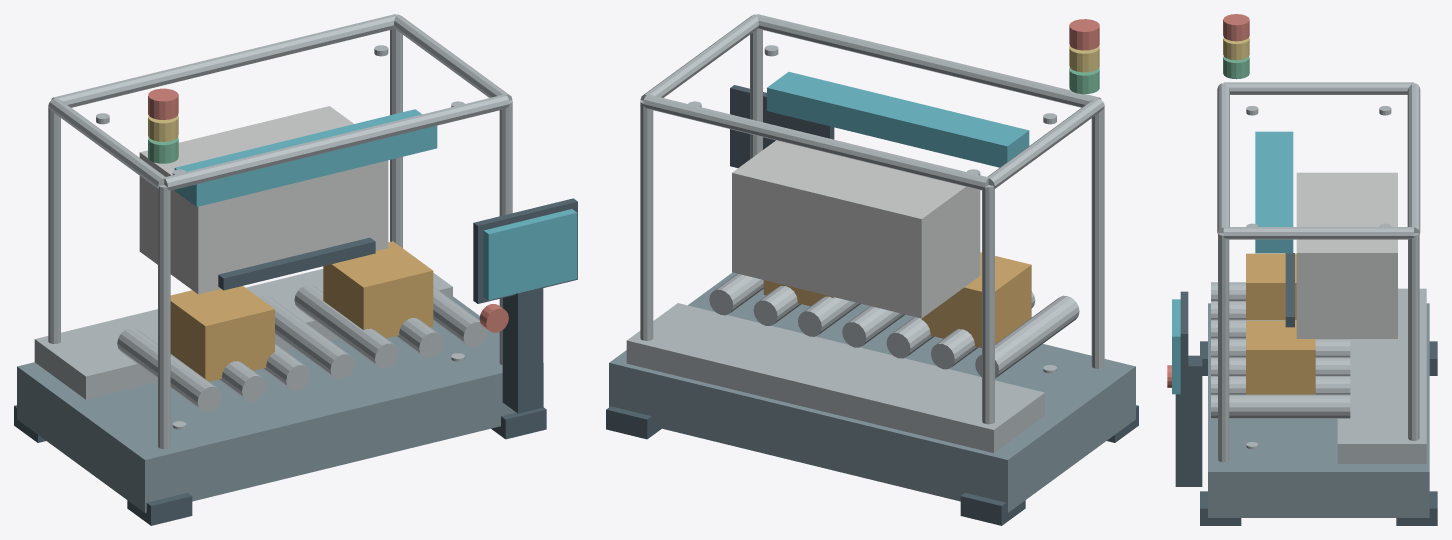
File: dispatch.glb
3 views of the same model, side by side, from view 1: azimuth 30°, elevation 25°; view 2: azimuth 150°, elevation 25°; view 3: azimuth 270°, elevation 25° (orthographic). The views are drawn at different scales.
Visible parts, largest first — view 1: fabricated_base, printer, control_plinth, carton_-1.3, outfeed_scanner, carton_1.2, operator_hmi_screen, toprail_1.5, toprail_-1.5, operator_hmi_pedestal, frame_-2.7_1.5, frame_-2.7_-1.5 (+19 smaller); view 2: fabricated_base, printer, control_plinth, outfeed_scanner, toprail_-1.5, toprail_1.5, carton_-1.3, frame_-2.7_1.5, frame_2.7_-1.5, frame_-2.7_-1.5, dispatch_roller_0, operator_hmi_bezel (+14 smaller); view 3: fabricated_base, printer, control_plinth, carton_1.2, outfeed_scanner, dispatch_roller_6, operator_hmi_pedestal, carton_-1.3, frame_2.7_1.5, crossrail_2.7, frame_2.7_-1.5, crossrail_-2.7 (+16 smaller).
Boxes of the visible parts, x1=… form: fabricated_base: x1=17, y1=296, x2=543, y2=512; printer: x1=139, y1=106, x2=388, y2=294; control_plinth: x1=34, y1=269, x2=452, y2=399; carton_-1.3: x1=170, y1=286, x2=274, y2=381; outfeed_scanner: x1=174, y1=109, x2=437, y2=206; carton_1.2: x1=323, y1=241, x2=433, y2=338; operator_hmi_screen: x1=483, y1=209, x2=577, y2=300; toprail_1.5: x1=163, y1=94, x2=509, y2=190; toprail_-1.5: x1=51, y1=14, x2=396, y2=107; operator_hmi_pedestal: x1=502, y1=287, x2=543, y2=413; frame_-2.7_1.5: x1=158, y1=185, x2=170, y2=449; frame_-2.7_-1.5: x1=48, y1=103, x2=60, y2=343; fabricated_base: x1=609, y1=272, x2=1135, y2=512; printer: x1=732, y1=140, x2=980, y2=318; control_plinth: x1=626, y1=303, x2=1044, y2=452; outfeed_scanner: x1=767, y1=72, x2=1029, y2=167; toprail_-1.5: x1=643, y1=94, x2=988, y2=190; toprail_1.5: x1=756, y1=14, x2=1101, y2=107; carton_-1.3: x1=921, y1=252, x2=1031, y2=347; frame_-2.7_1.5: x1=1091, y1=103, x2=1104, y2=368; frame_2.7_-1.5: x1=640, y1=100, x2=653, y2=340; frame_-2.7_-1.5: x1=982, y1=185, x2=994, y2=424; dispatch_roller_0: x1=975, y1=295, x2=1079, y2=378; operator_hmi_bezel: x1=730, y1=85, x2=834, y2=167; fabricated_base: x1=1208, y1=303, x2=1429, y2=517; printer: x1=1296, y1=172, x2=1397, y2=338; control_plinth: x1=1337, y1=288, x2=1426, y2=463; carton_1.2: x1=1246, y1=320, x2=1315, y2=394; outfeed_scanner: x1=1255, y1=131, x2=1293, y2=253; dispatch_roller_6: x1=1211, y1=394, x2=1350, y2=418; operator_hmi_pedestal: x1=1175, y1=355, x2=1202, y2=486; carton_-1.3: x1=1246, y1=253, x2=1296, y2=319; frame_2.7_1.5: x1=1218, y1=233, x2=1229, y2=462; crossrail_2.7: x1=1223, y1=227, x2=1413, y2=239; frame_2.7_-1.5: x1=1408, y1=233, x2=1419, y2=440; crossrail_-2.7: x1=1223, y1=82, x2=1413, y2=94.
Size of the model in its own units: 6.59 by 6.15 by 4.27.
